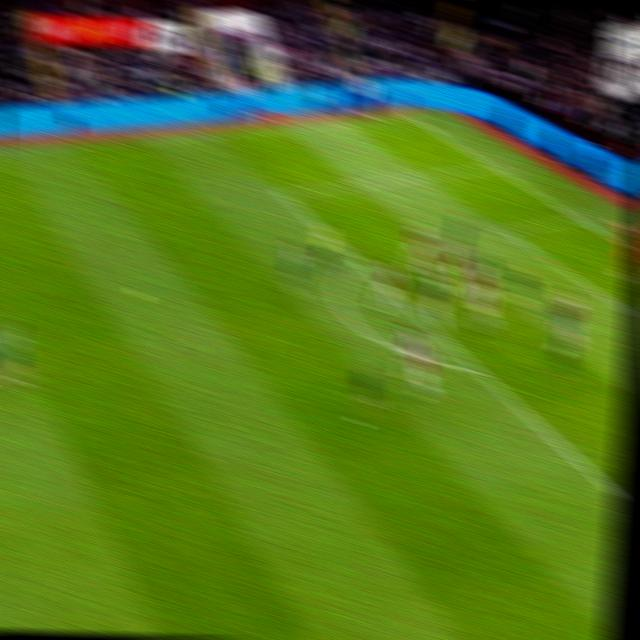bigarea_top_inner: (271, 183, 293, 200)
bigarea_top_outter: (481, 159, 499, 172)
bottom_arc_area_intersection: (464, 358, 490, 382)
corner: (395, 109, 415, 120)
smallarea_top_inner: (495, 221, 517, 238)
smallarea_top_outter: (567, 210, 586, 227)
top_arc_area_intersection: (347, 253, 367, 271)
